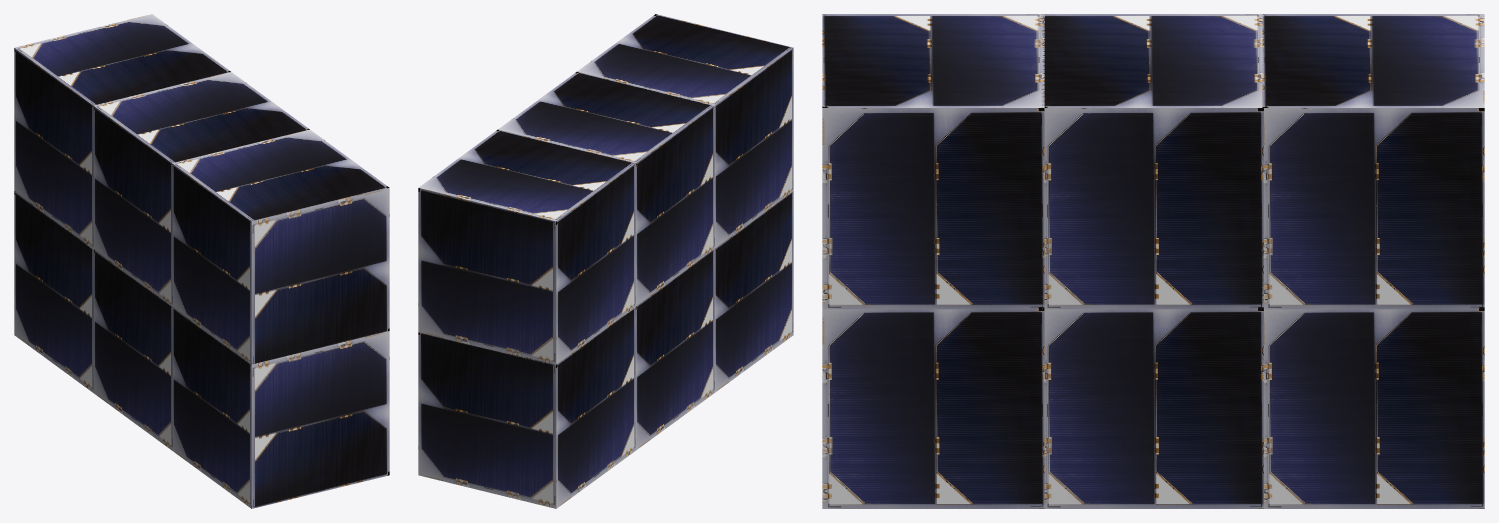
File: simple6U.dae
The picture shows the model from 3 angles, left to right: view 1: azimuth 30°, elevation 25°; view 2: azimuth 150°, elevation 25°; view 3: azimuth 270°, elevation 25°; orthographic projection. The views are drawn at different scales.
Parts seen in each view (by area): view 1: Cube_002, Cube_003, Cube_001, Cube, Cube_004, Cube_005; view 2: Cube_001, Cube_004, Cube_002, Cube, Cube_005, Cube_003; view 3: Cube_002, Cube_001, Cube, Cube_003, Cube_004, Cube_005.
Part boxes in pixels (box(x1,y1,x2,y2)): Cube_002: box(172, 129, 389, 364); Cube_003: box(173, 307, 389, 508); Cube_001: box(14, 14, 230, 249); Cube: box(93, 72, 309, 306); Cube_004: box(14, 191, 93, 393); Cube_005: box(94, 249, 172, 450); Cube_001: box(418, 129, 635, 364); Cube_004: box(418, 308, 635, 508); Cube_002: box(577, 14, 793, 247); Cube: box(498, 71, 714, 305); Cube_005: box(635, 248, 714, 450); Cube_003: box(715, 191, 793, 392); Cube_002: box(822, 14, 1044, 309); Cube_001: box(1262, 14, 1484, 309); Cube: box(1041, 14, 1263, 309); Cube_003: box(822, 307, 1044, 508); Cube_004: box(1262, 307, 1484, 508); Cube_005: box(1042, 307, 1263, 508).
Size of the model in its own units: 2 by 5.96 by 3.98.
Materials: 6 (6 with a texture image).
